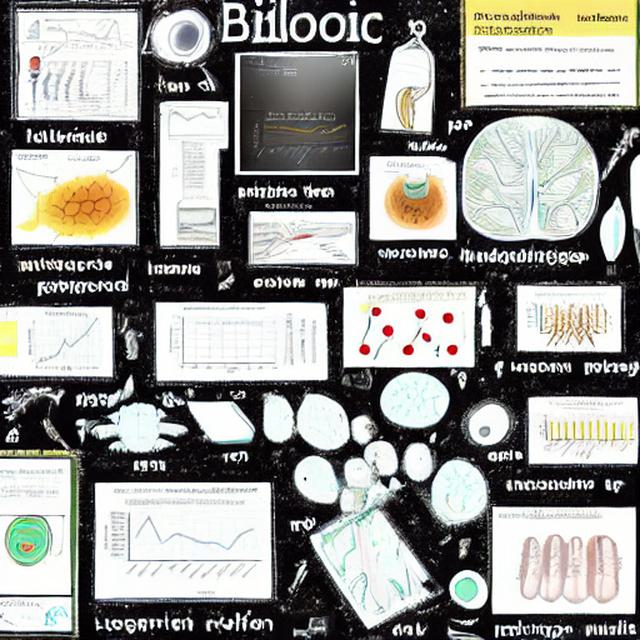Graph: (101, 497, 264, 595), (159, 305, 280, 377), (248, 109, 355, 171), (533, 399, 636, 462), (24, 309, 109, 373), (161, 104, 224, 142), (33, 18, 94, 54)
